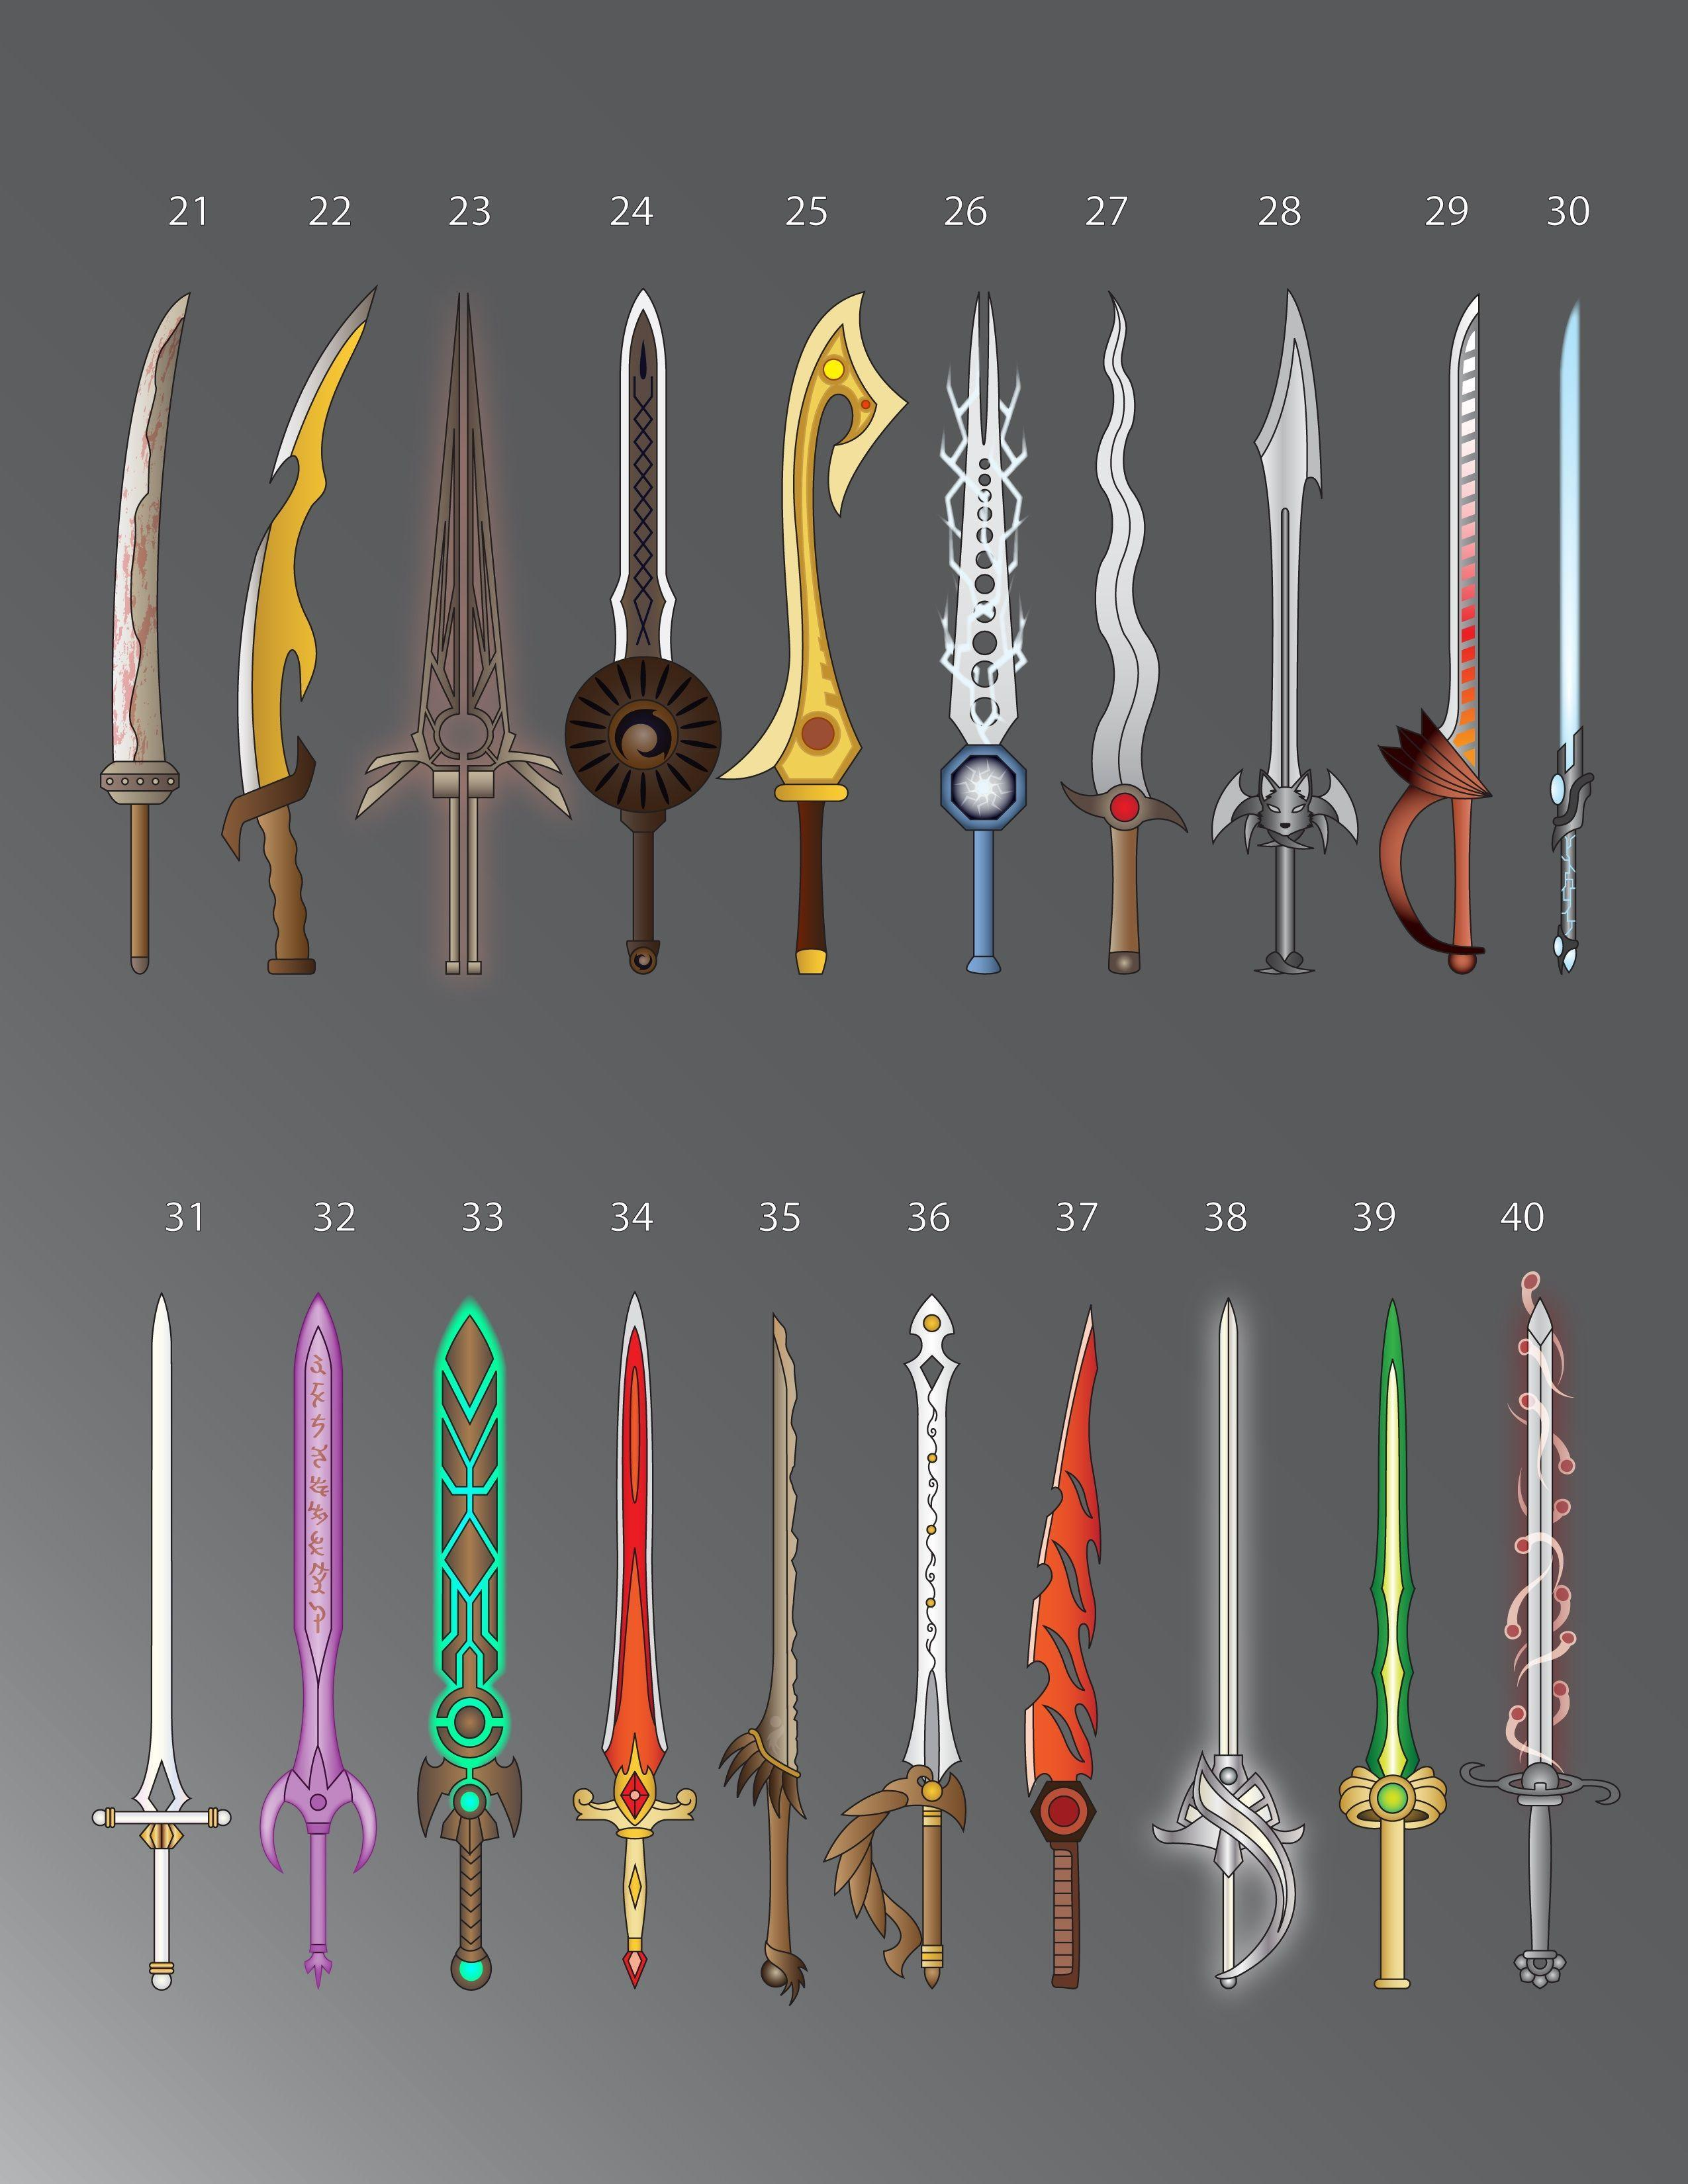espada: (351, 298, 535, 980), (1379, 305, 1550, 1019), (410, 1314, 557, 2028), (755, 291, 904, 989), (1473, 1271, 1619, 1985), (1059, 308, 1204, 989), (576, 324, 734, 947), (1516, 314, 1665, 959), (874, 1310, 1004, 2001), (1172, 1363, 1303, 2042), (1222, 301, 1344, 996), (580, 1344, 706, 2016), (103, 248, 206, 1030), (236, 275, 340, 1003), (264, 1324, 385, 1952), (96, 1264, 195, 2024), (725, 1324, 833, 1996), (1027, 1310, 1126, 2028), (1344, 1298, 1429, 2023), (950, 321, 1020, 989)
